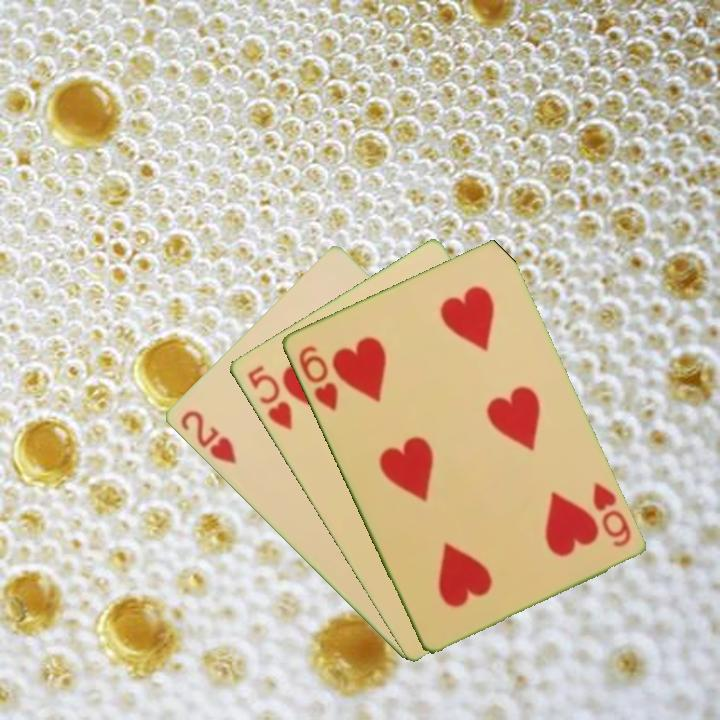2h: (176, 406, 240, 467)
5h: (243, 361, 295, 434)
6h: (294, 342, 341, 414), (588, 478, 634, 550)
